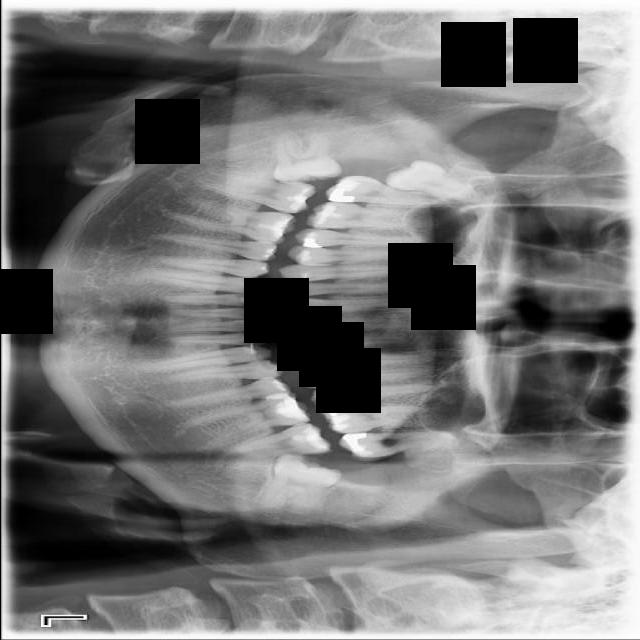3M ESPE Implant: (382, 154, 491, 207)
52: (280, 411, 334, 467), (317, 396, 371, 443), (337, 426, 394, 468), (321, 171, 385, 207), (242, 209, 298, 247), (252, 391, 311, 427), (267, 176, 316, 218), (304, 200, 360, 229), (298, 364, 350, 390), (286, 243, 339, 268), (309, 384, 357, 410), (247, 375, 291, 401), (238, 238, 278, 263), (230, 258, 270, 281), (294, 228, 339, 248)
73: (18, 620, 26, 628)
BioHorizons Implant: (337, 424, 466, 464)
Biomet 3i Implant: (256, 444, 343, 531)
Blue Sky Bio Implant: (218, 418, 331, 472)
Caries: (323, 173, 451, 209)
Implant: (194, 169, 316, 216)
Keystone Dental Implant: (270, 129, 342, 186)
